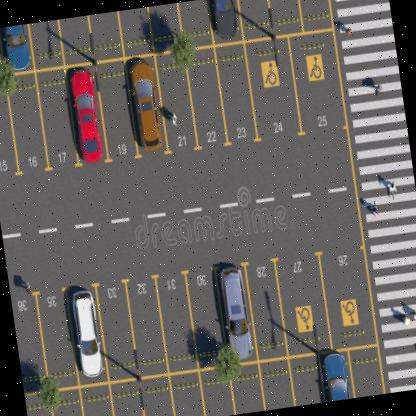Car: (62, 281, 108, 381), (66, 59, 108, 168), (126, 57, 169, 162), (217, 257, 258, 366), (320, 347, 354, 401), (0, 24, 32, 77), (209, 0, 243, 46)
Empty: (290, 28, 346, 141), (248, 42, 302, 146), (321, 243, 375, 347), (281, 256, 331, 352), (94, 55, 137, 159), (213, 39, 256, 143), (94, 280, 140, 374), (124, 274, 167, 370), (37, 68, 78, 166), (182, 265, 226, 356), (157, 60, 199, 153), (154, 268, 196, 358), (249, 258, 290, 348), (6, 74, 46, 166), (187, 56, 227, 143), (38, 290, 74, 380), (11, 295, 46, 384), (146, 2, 184, 54), (199, 366, 237, 416), (30, 20, 64, 72), (120, 6, 154, 58), (260, 358, 294, 410), (230, 366, 265, 414), (60, 15, 94, 64), (91, 11, 125, 60), (350, 347, 382, 397), (177, 0, 211, 46), (0, 92, 18, 177), (171, 374, 205, 416), (268, 0, 304, 38), (292, 361, 322, 405), (142, 378, 176, 416), (110, 383, 147, 416), (299, 0, 333, 34), (240, 0, 269, 37), (51, 387, 84, 416), (84, 391, 117, 416), (25, 391, 55, 416)
